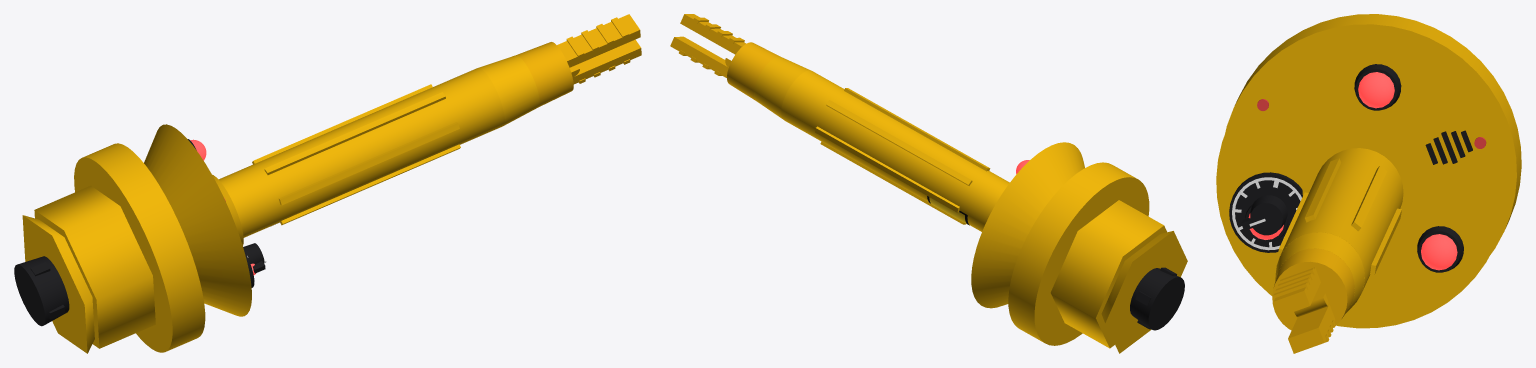
File: voltage_detector_tp_s9.glb
The picture shows the model from 3 angles, left to right: view 1: azimuth 30°, elevation 25°; view 2: azimuth 150°, elevation 25°; view 3: azimuth 270°, elevation 25°; orthographic projection. The views are drawn at different scales.
Visible parts, largest first — view 1: HighVoltageDetector_TP_S9; view 2: HighVoltageDetector_TP_S9; view 3: HighVoltageDetector_TP_S9.
Boxes of the visible parts, x1,y1,x2,y2 form: HighVoltageDetector_TP_S9: [14, 14, 641, 353]; HighVoltageDetector_TP_S9: [670, 14, 1187, 353]; HighVoltageDetector_TP_S9: [1216, 14, 1521, 353].
Bounding box in the file's own units: 0.4031 × 0.1544 × 0.1294.
